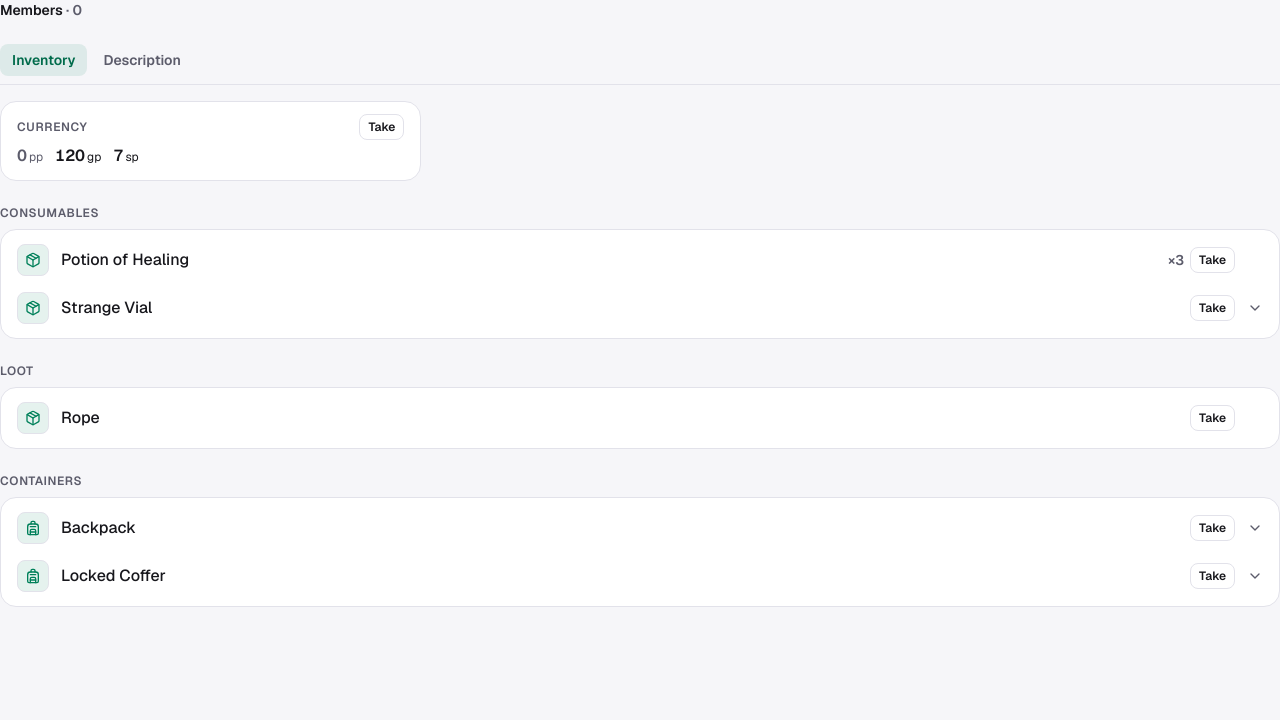
Test case: components/transfers/take-controls › a move taken › gives where the move stands focus once it’s sent, as its Take waits for it and can’t be given focus back
Click the button with aria-label "Take Rope" at (1213, 418), box [1190,405,1235,431]
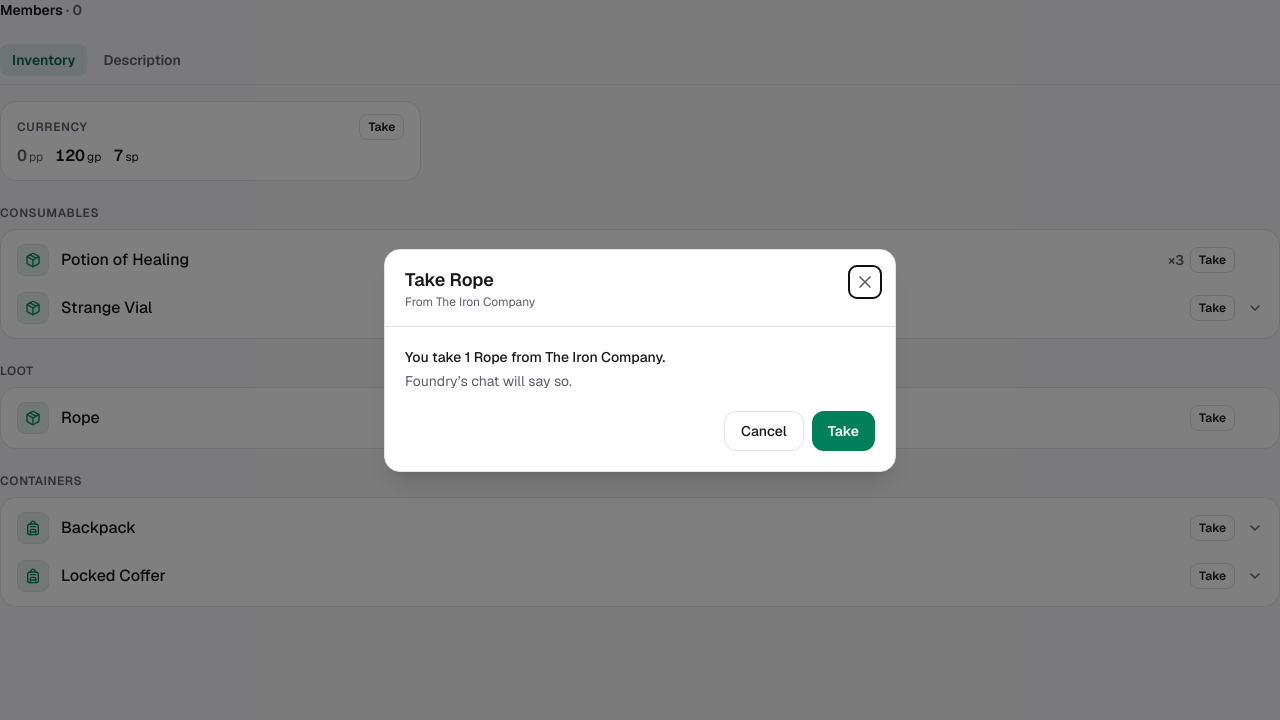
Click the button "Take" at (843, 430), box [812,410,875,450]
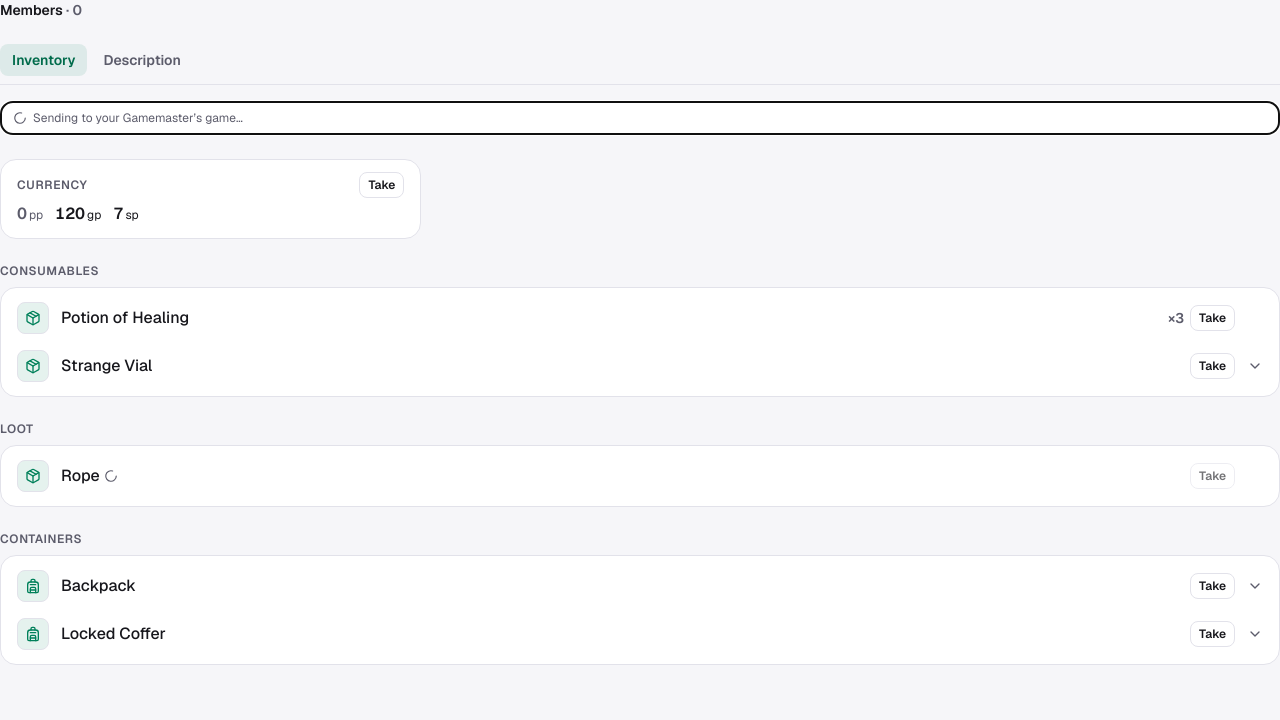
Now the button with aria-label "Take Rope" is disabled, box [1190,463,1235,489]
Now the message reads "Sending to your Gamemaster’s game…", box [33,110,243,126]
